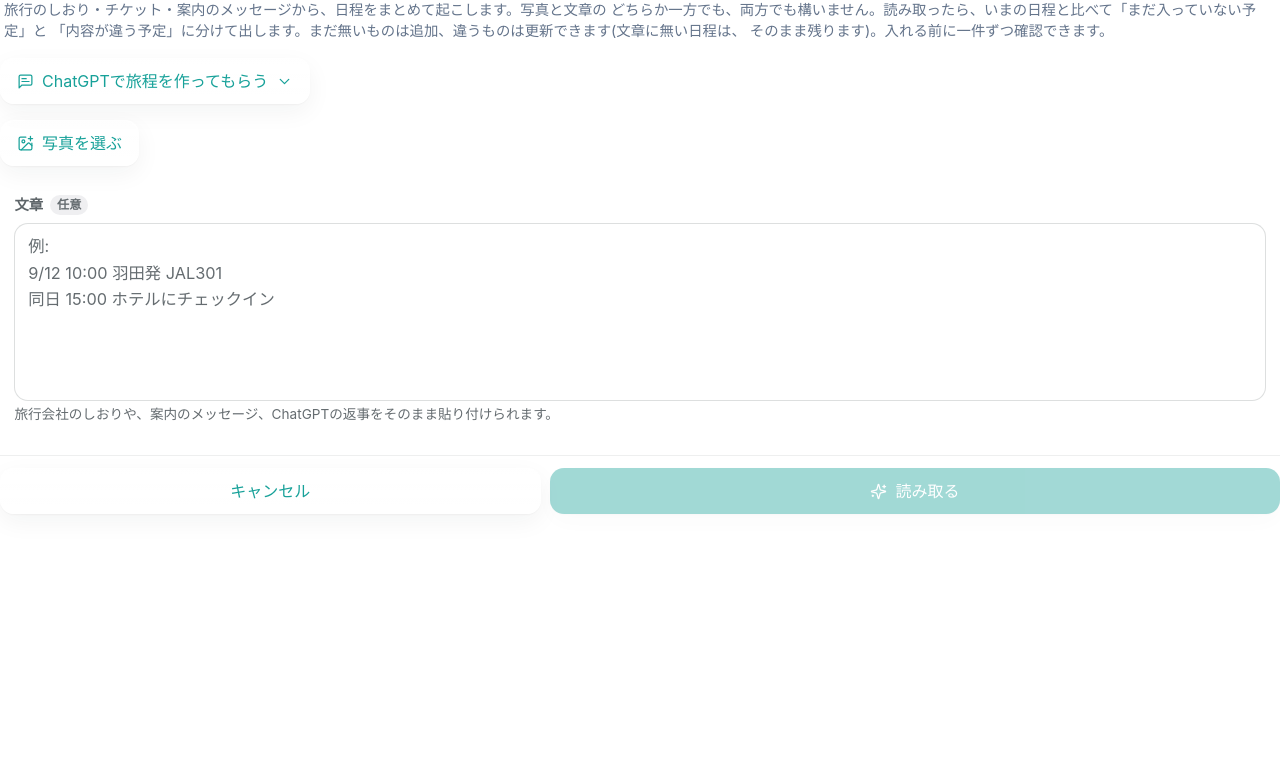
写真・文章から日程を読み取る画面 › 全部は読み取れていない時は、日程の上に断りを出す
This screenshot has width=1280, height=759.
Step 1. Type "9/12 10:00 羽田発" into the text box with placeholder "例: 9/12 10:00 羽田発 JAL301 同日 15:00 ホテルにチェックイン" → (640, 312), box [14, 222, 1266, 401]
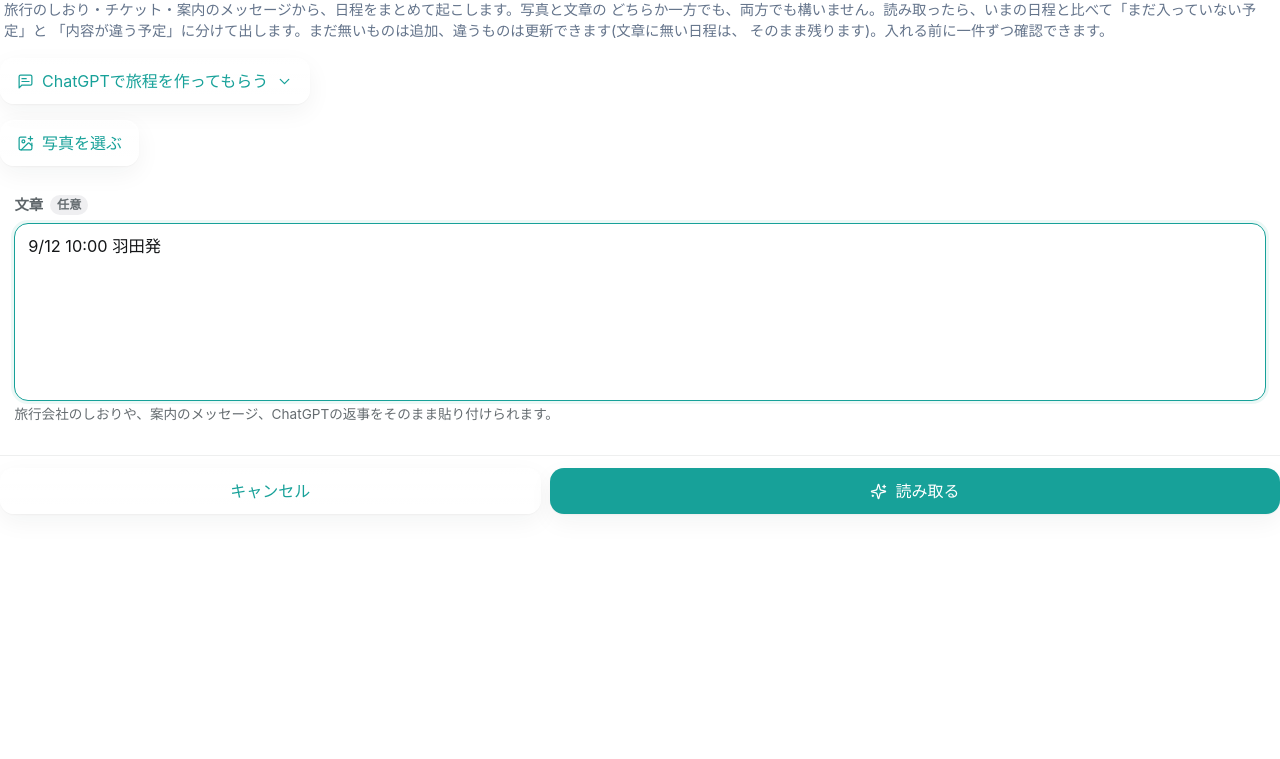
Step 2. Click the button "読み取る" → click(915, 490), box [550, 468, 1279, 514]
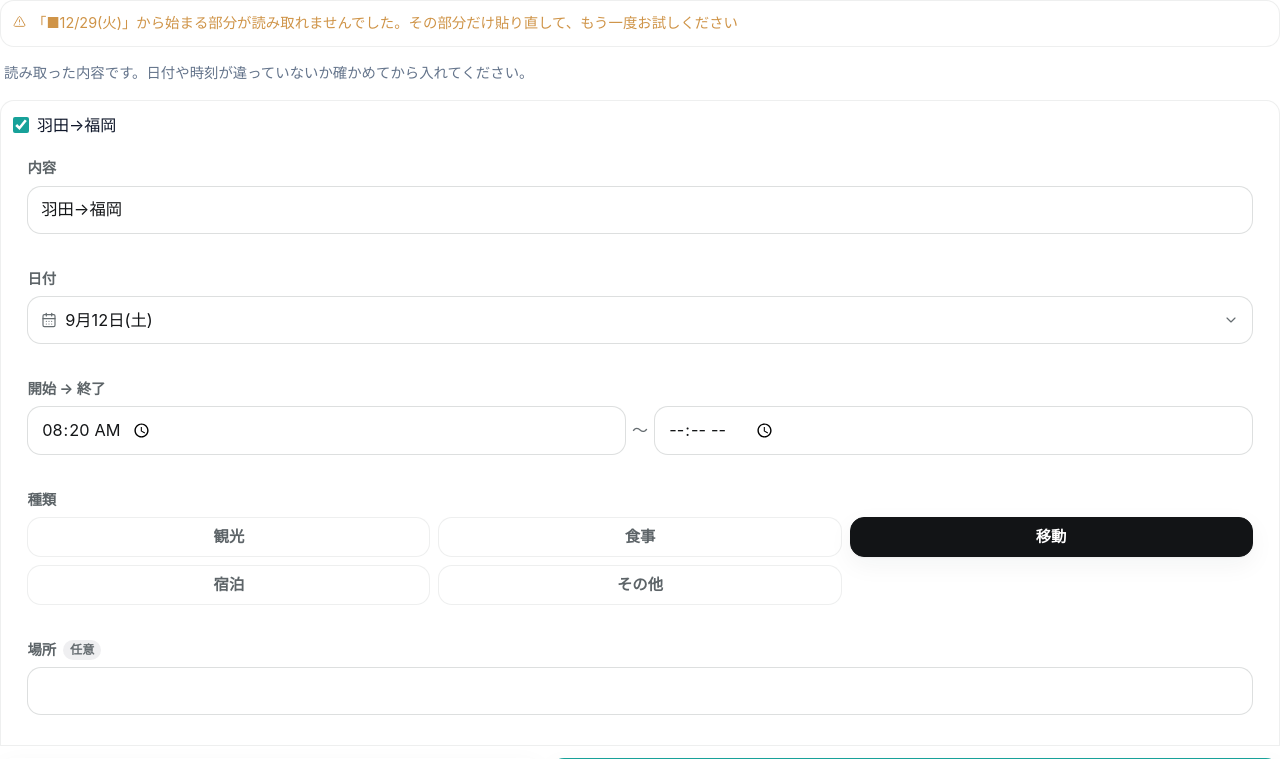
Check: the message shows "「■12/29(火)」から始まる部分が読み取れませんでした", box [32, 14, 738, 31]
Check: the field showing "羽田→福岡" is shown, box [27, 186, 1253, 234]
